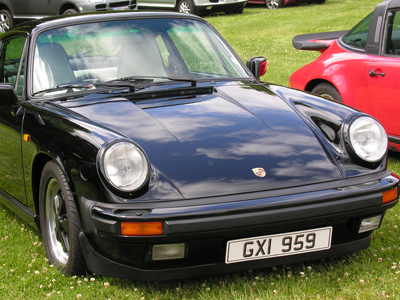licencePlate: (224, 224, 343, 265)
